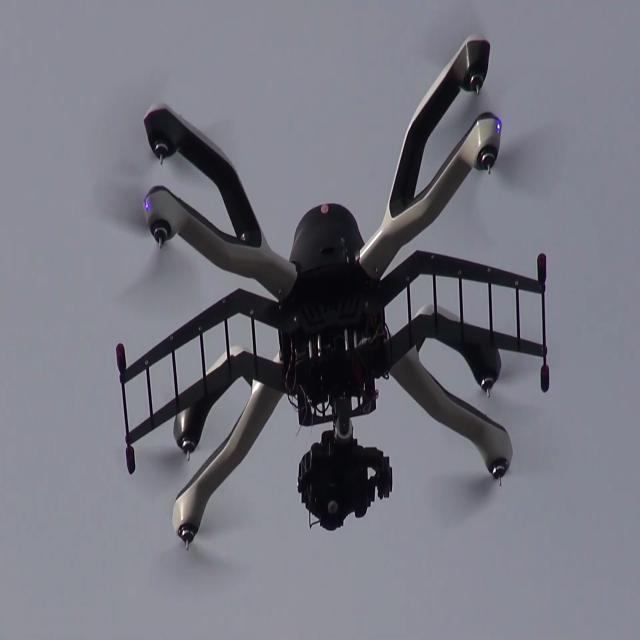drone: (114, 75, 528, 640)
